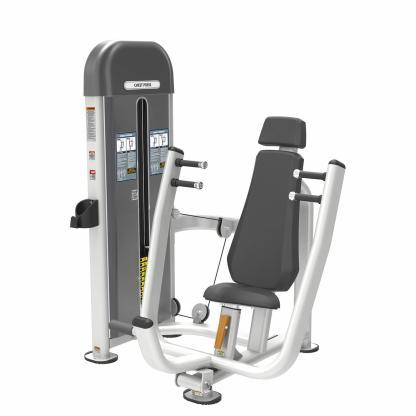Chest Press machine: (66, 31, 348, 408)
